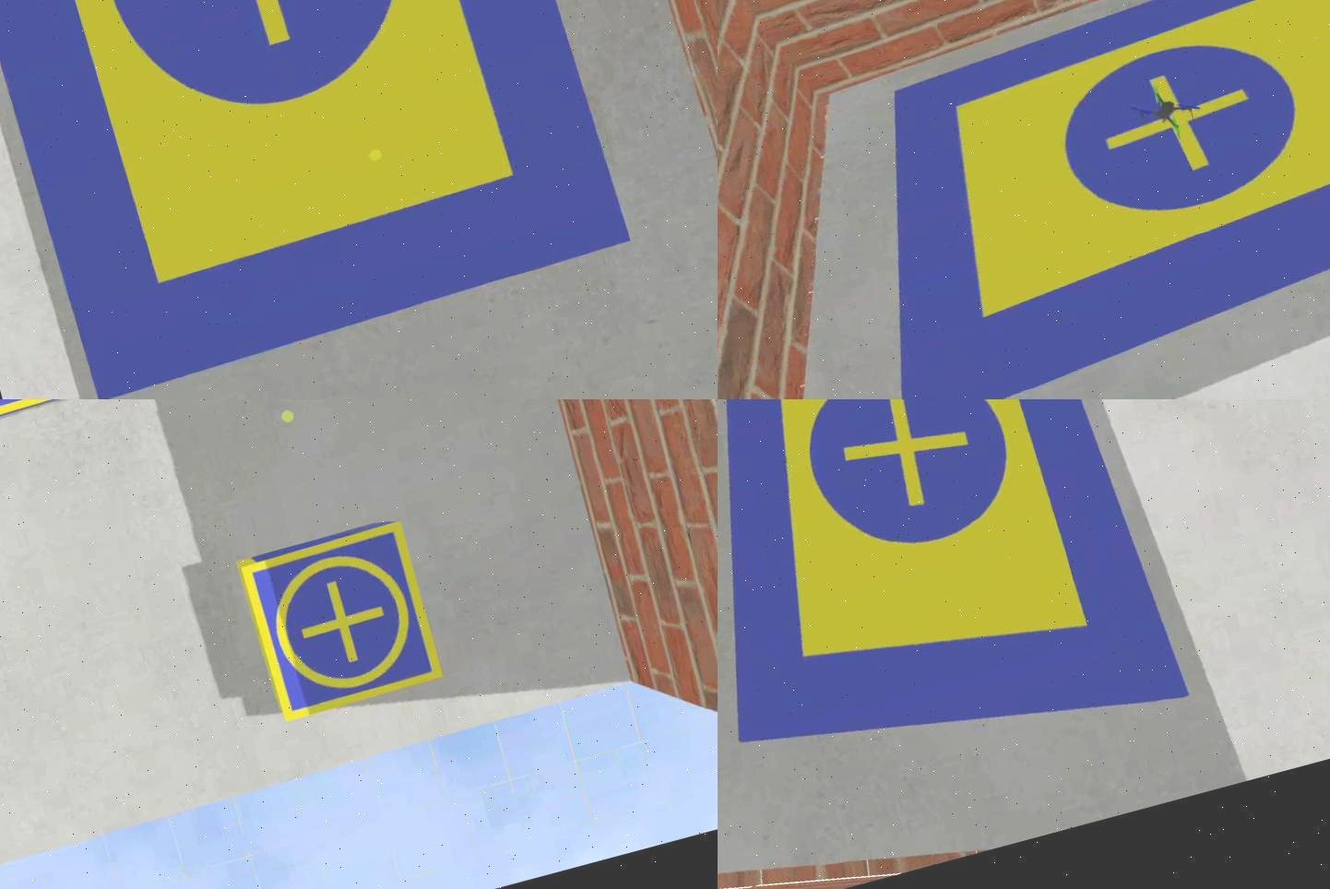large_base: (1, 1, 637, 400), (809, 1, 1330, 400), (718, 400, 1193, 813)
small_base: (239, 517, 448, 725)
